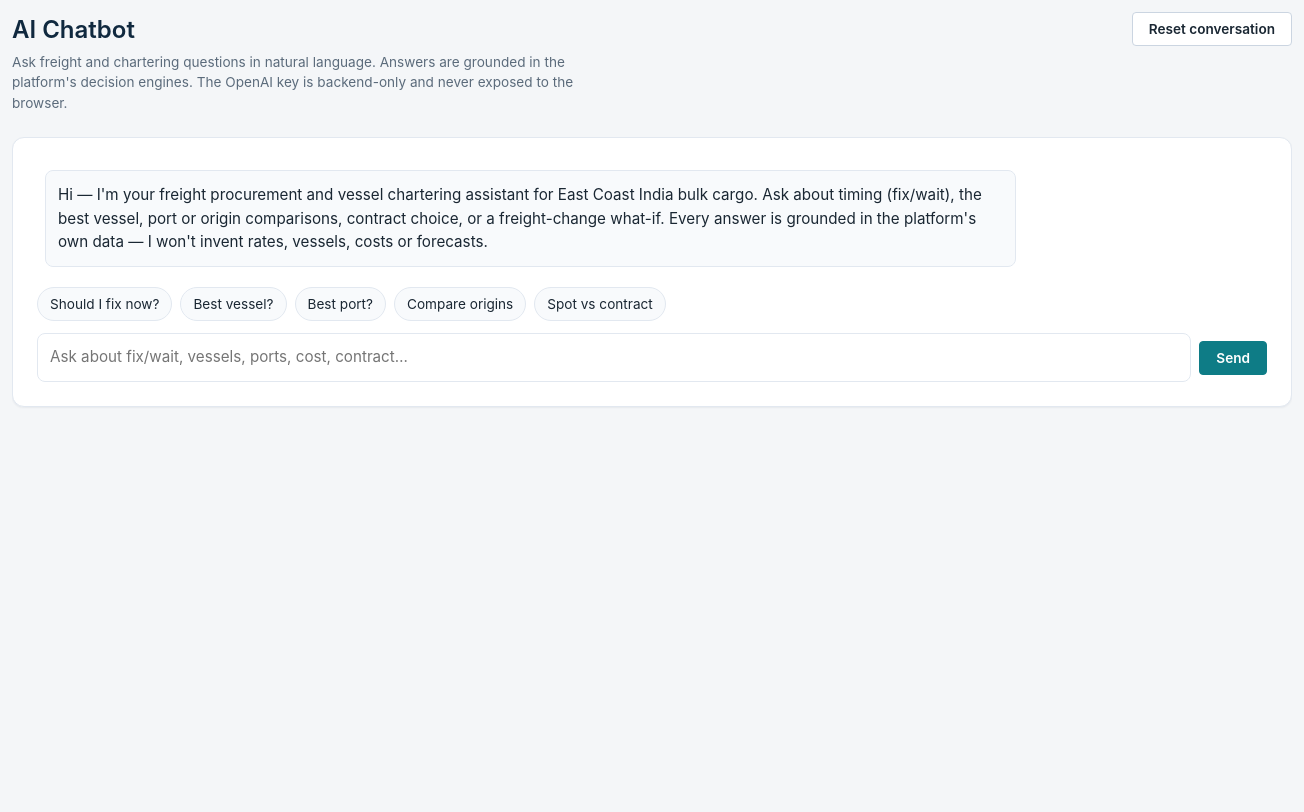
Test: ChatbotPage › resets the conversation and clears the transcript
In the field named "Chat message": (614, 358) [37,333,1191,382], type "Should I fix?"
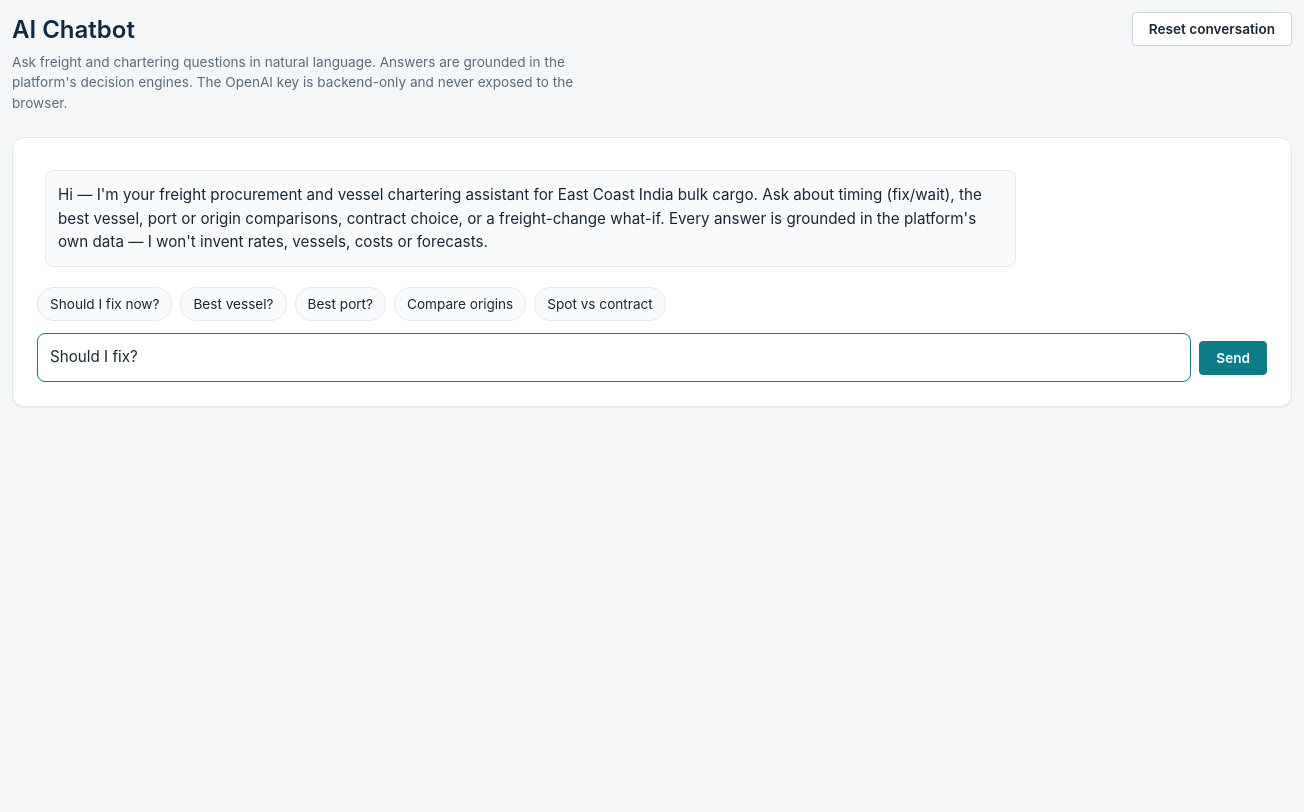
Click the button "Send": click(1233, 358) [1199,341,1267,375]
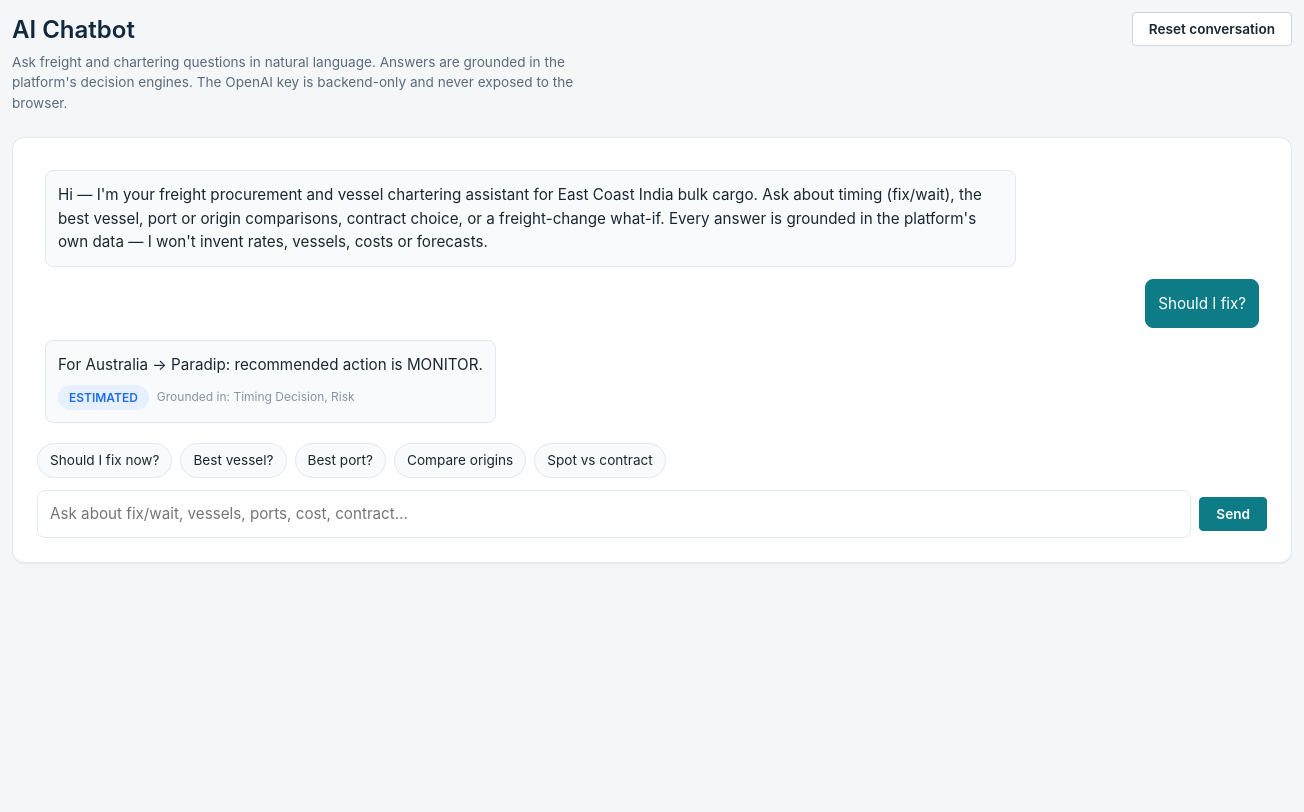
Result: the text "For Australia → Paradip: recommended action is MONITOR." is shown at [58,353,483,377]
Click the button "Reset conversation": click(1212, 29) [1132,12,1292,46]
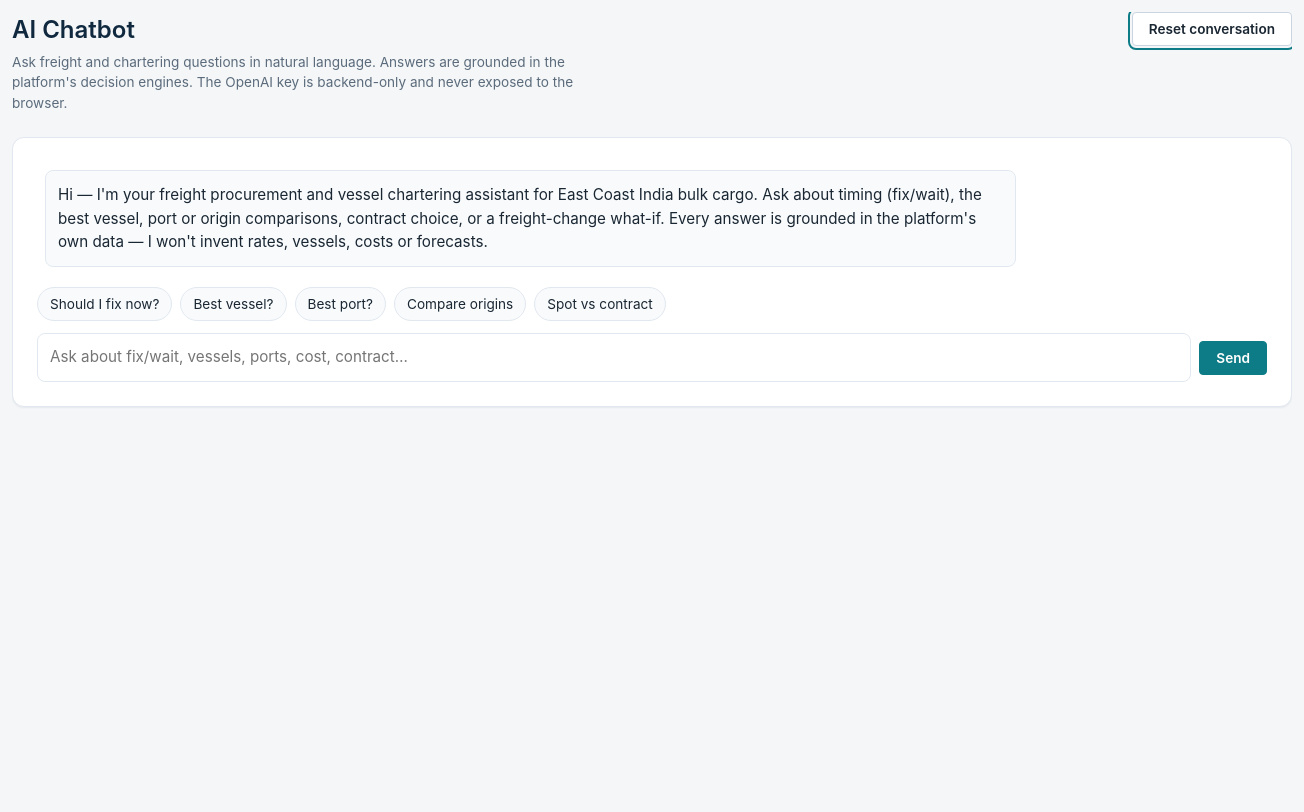
Result: the text "recommended action is MONITOR" is gone
